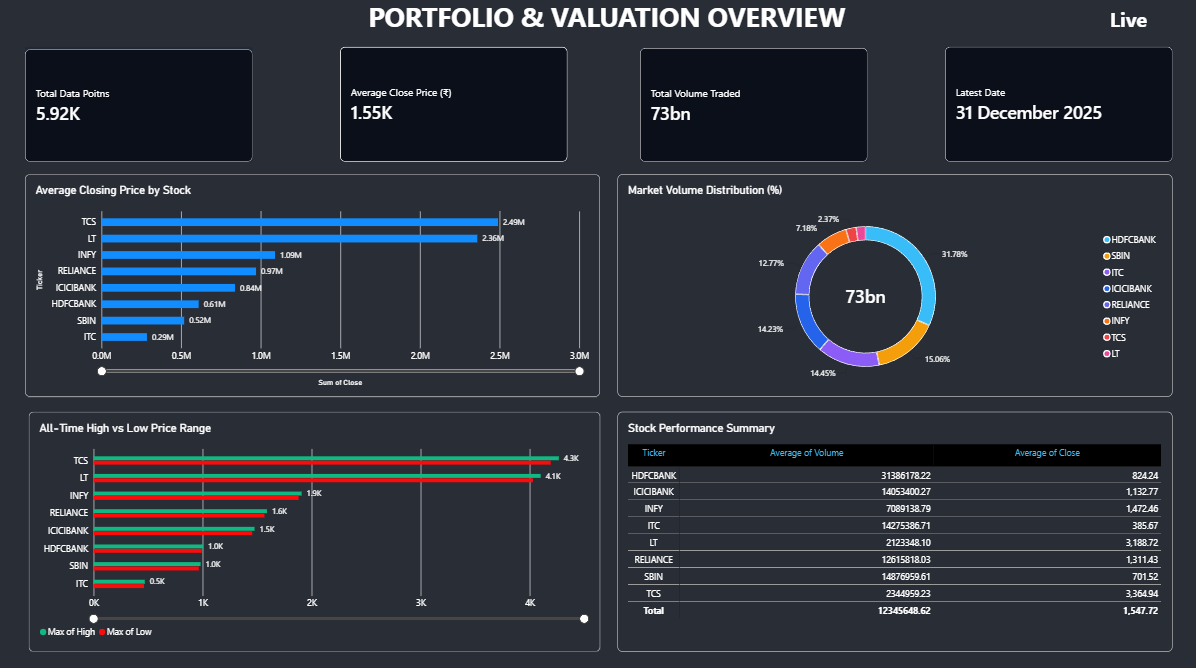

What the dashboard file says about the page in this screenshot:
{"tool":"powerbi","page":{"name":" PORTFOLIO & VALUATION OVERVIEW    ","canvas":[1920,1080],"ordinal":0},"visuals":[{"type":"shape","box":[0,0,1920.1,61.5],"z":0},{"type":"textbox","box":[10.3,0,1910.1,78.2],"z":1000},{"type":"shape","box":[40,78,364,184],"z":2000},{"type":"shape","box":[544,80,364,182],"z":3000},{"type":"shape","box":[1024,82,364,180],"z":4000},{"type":"shape","box":[1512,78,364,184],"z":5000},{"type":"cardVisual","title":"Total Data Points","fields":{"Data":["CountNonNull(Cleaned_Stock_Historical_Data.Ticker)"]},"box":[40,82,364,180],"z":6000},{"type":"cardVisual","fields":{"Data":["Avg(Cleaned_Stock_Historical_Data.Close)"]},"box":[544,78,364,184],"z":7000},{"type":"cardVisual","fields":{"Data":["Sum(Cleaned_Stock_Historical_Data.Volume)"]},"box":[1024,80,364,182],"z":8000},{"type":"cardVisual","fields":{"Data":["Max(Cleaned_Stock_Historical_Data.Date)"]},"box":[1511.1,76,364,184],"z":9000},{"type":"clusteredBarChart","title":"Average Closing Price by Stock","fields":{"Category":["Cleaned_Stock_Historical_Data.Ticker"],"Y":["Sum(Cleaned_Stock_Historical_Data.Close)"]},"box":[40,282,920,356],"z":10000},{"type":"donutChart","title":"Market Volume Distribution (%)","fields":{"Category":["Cleaned_Stock_Historical_Data.Ticker"],"Y":["Sum(Cleaned_Stock_Historical_Data.Volume)"]},"box":[988,282,888,356],"z":11000},{"type":"clusteredBarChart","title":"All-Time High vs Low Price Range","fields":{"Category":["Cleaned_Stock_Historical_Data.Ticker"],"Y":["Max(Cleaned_Stock_Historical_Data.High)","Max(Cleaned_Stock_Historical_Data.Low)"]},"box":[46,662,914,384],"z":12000},{"type":"pivotTable","title":"Stock Performance Summary","fields":{"Rows":["Cleaned_Stock_Historical_Data.Ticker"],"Values":["Avg(Cleaned_Stock_Historical_Data.Volume)","Avg(Cleaned_Stock_Historical_Data.Close)"]},"box":[988,662,888,384],"z":13000}]}

Visuals, with their boxes in screenshot pixels (x1, y1, x2, y2), scaled from the page's 1920x1080 canvas onto the 1196x668 screenshot:
shape: <bbox>0, 0, 1195, 38</bbox>
textbox: <bbox>6, 0, 1195, 48</bbox>
shape: <bbox>25, 48, 252, 162</bbox>
shape: <bbox>339, 49, 566, 162</bbox>
shape: <bbox>638, 51, 865, 162</bbox>
shape: <bbox>942, 48, 1169, 162</bbox>
"Total Data Points" cardVisual: <bbox>25, 51, 252, 162</bbox>
cardVisual - Avg(Cleaned_Stock_Historical_Data.Close): <bbox>339, 48, 566, 162</bbox>
cardVisual - Sum(Cleaned_Stock_Historical_Data.Volume): <bbox>638, 49, 865, 162</bbox>
cardVisual - Max(Cleaned_Stock_Historical_Data.Date): <bbox>941, 47, 1168, 161</bbox>
"Average Closing Price by Stock" clusteredBarChart: <bbox>25, 174, 598, 395</bbox>
"Market Volume Distribution (%)" donutChart: <bbox>615, 174, 1169, 395</bbox>
"All-Time High vs Low Price Range" clusteredBarChart: <bbox>29, 409, 598, 647</bbox>
"Stock Performance Summary" pivotTable: <bbox>615, 409, 1169, 647</bbox>
